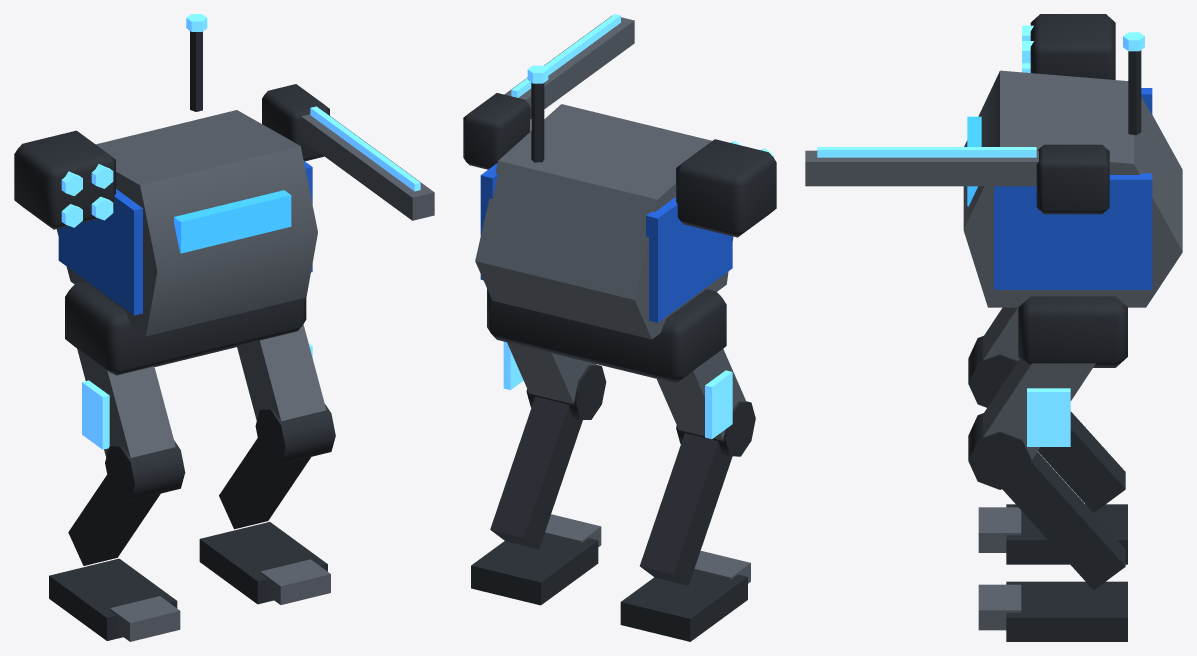
Rendered from mech_blue.glb.
3 views of the same model, side by side, from view 1: azimuth 30°, elevation 25°; view 2: azimuth 150°, elevation 25°; view 3: azimuth 270°, elevation 25° (orthographic). The views are drawn at different scales.
Visible parts, largest first — view 1: mech_blue; view 2: mech_blue; view 3: mech_blue.
Part boxes in pixels (bbox=[...]): mech_blue: bbox=[14, 14, 434, 641]; mech_blue: bbox=[463, 14, 776, 641]; mech_blue: bbox=[805, 14, 1182, 641].
Size of the model in its own units: 0.285 by 0.516 by 0.31.
3 materials, 1 textured.
